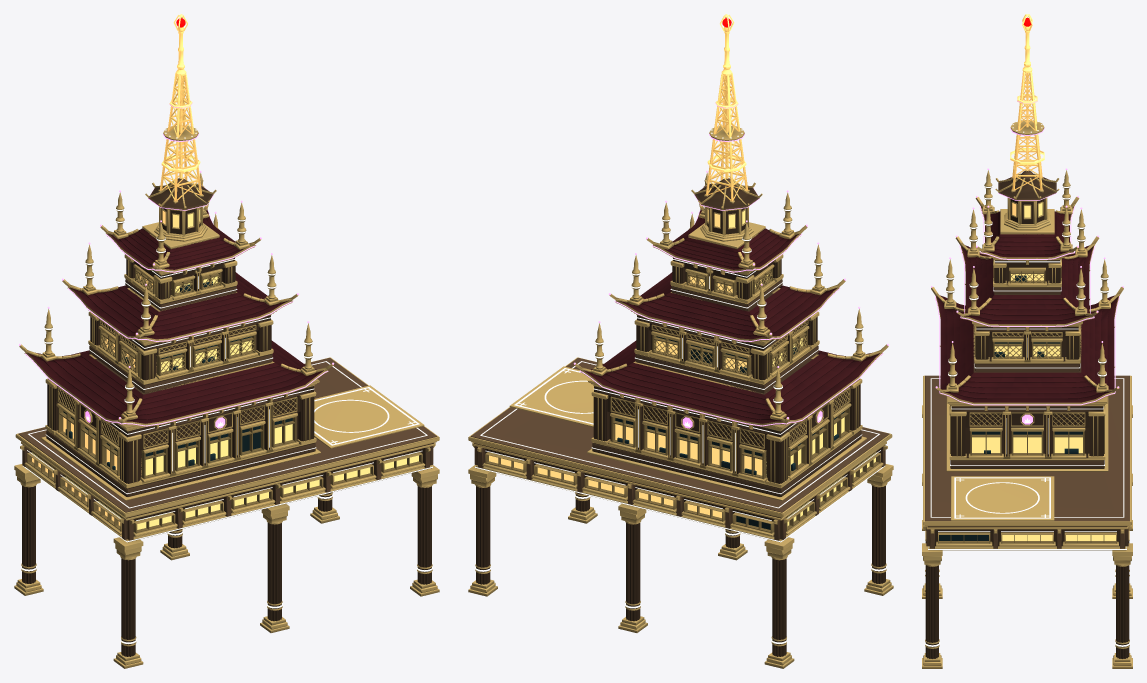
File: crown287.glb
3 renders of one model, left to right at view 1: azimuth 30°, elevation 25°; view 2: azimuth 150°, elevation 25°; view 3: azimuth 270°, elevation 25°, orthographic. The views are drawn at different scales.
Parts seen in each view (by area): view 1: c287-trim, c287-body, c287-roof, c287-led, c287-room, c287-spire, c287-neon, c287-glass; view 2: c287-trim, c287-body, c287-roof, c287-led, c287-room, c287-spire, c287-neon, c287-glass; view 3: c287-trim, c287-body, c287-roof, c287-led, c287-room, c287-spire, c287-neon, c287-glass.
Boxes of the visible parts, left/top/right/bottom form: c287-trim: left=14, top=126, right=439, bottom=668; c287-body: left=18, top=178, right=437, bottom=656; c287-roof: left=28, top=210, right=323, bottom=423; c287-led: left=21, top=125, right=432, bottom=643; c287-room: left=32, top=209, right=418, bottom=529; c287-spire: left=160, top=14, right=202, bottom=201; c287-neon: left=19, top=99, right=334, bottom=428; c287-glass: left=63, top=281, right=292, bottom=469; c287-trim: left=468, top=126, right=893, bottom=668; c287-body: left=470, top=178, right=889, bottom=656; c287-roof: left=584, top=210, right=879, bottom=423; c287-led: left=475, top=125, right=886, bottom=643; c287-room: left=489, top=209, right=875, bottom=525; c287-spire: left=705, top=14, right=747, bottom=201; c287-neon: left=573, top=99, right=888, bottom=428; c287-glass: left=615, top=336, right=844, bottom=529; c287-trim: left=922, top=120, right=1132, bottom=668; c287-body: left=925, top=170, right=1129, bottom=658; c287-roof: left=936, top=207, right=1118, bottom=402; c287-led: left=924, top=121, right=1130, bottom=646; c287-room: left=972, top=203, right=1115, bottom=540; c287-spire: left=1010, top=14, right=1044, bottom=190; c287-neon: left=931, top=95, right=1123, bottom=424; c287-glass: left=939, top=275, right=1082, bottom=540.
Size of the model in its own units: 8.44 by 14.96 by 5.1.
